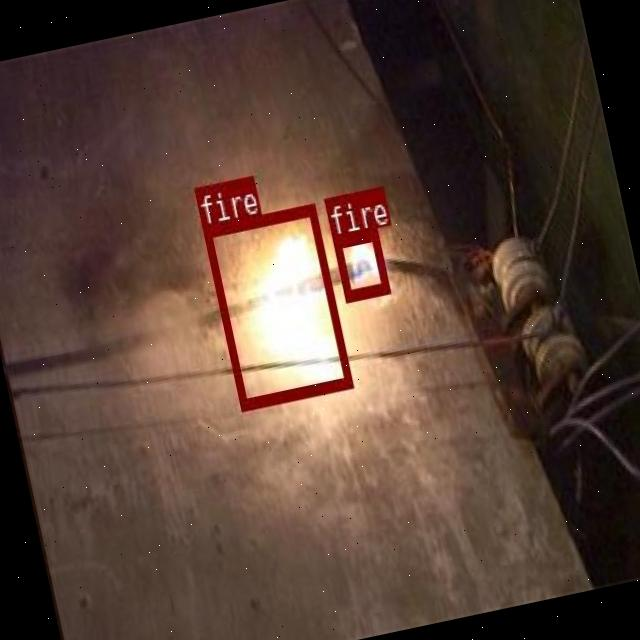fire: (202, 202, 352, 409), (331, 227, 388, 300)
